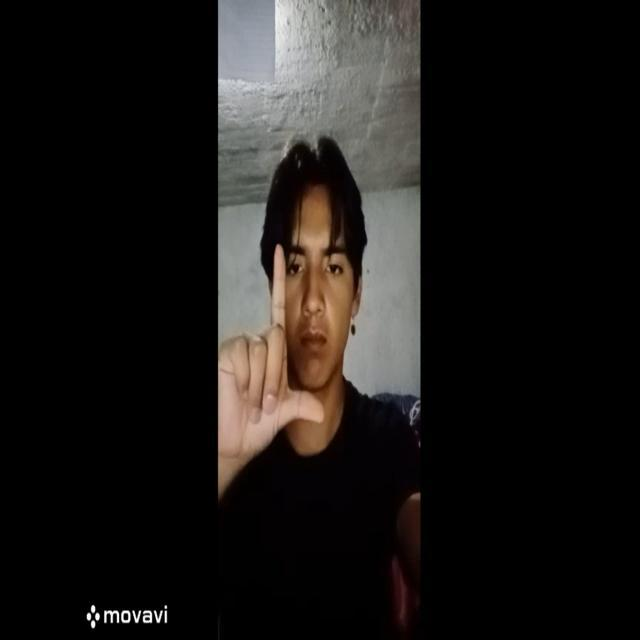L: (220, 238, 336, 460)
